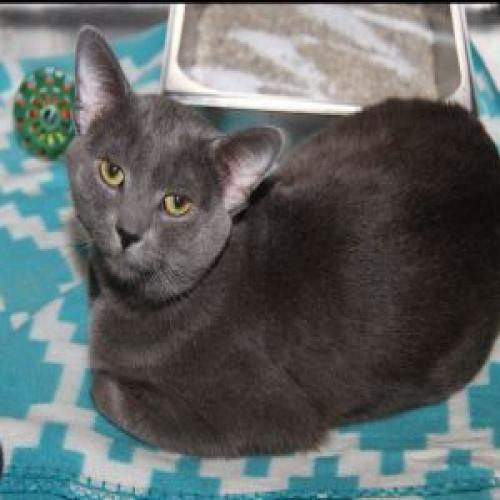rblue: (61, 22, 281, 330)
